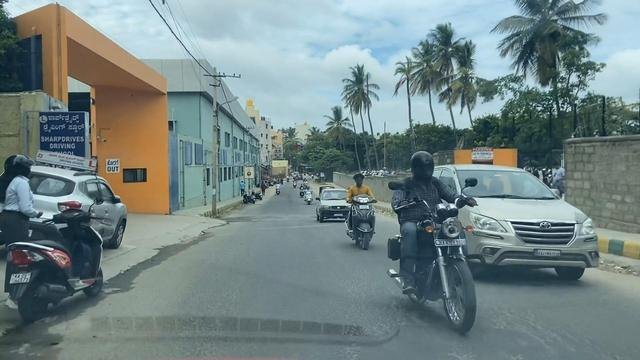LMV: (341, 149, 385, 262)
